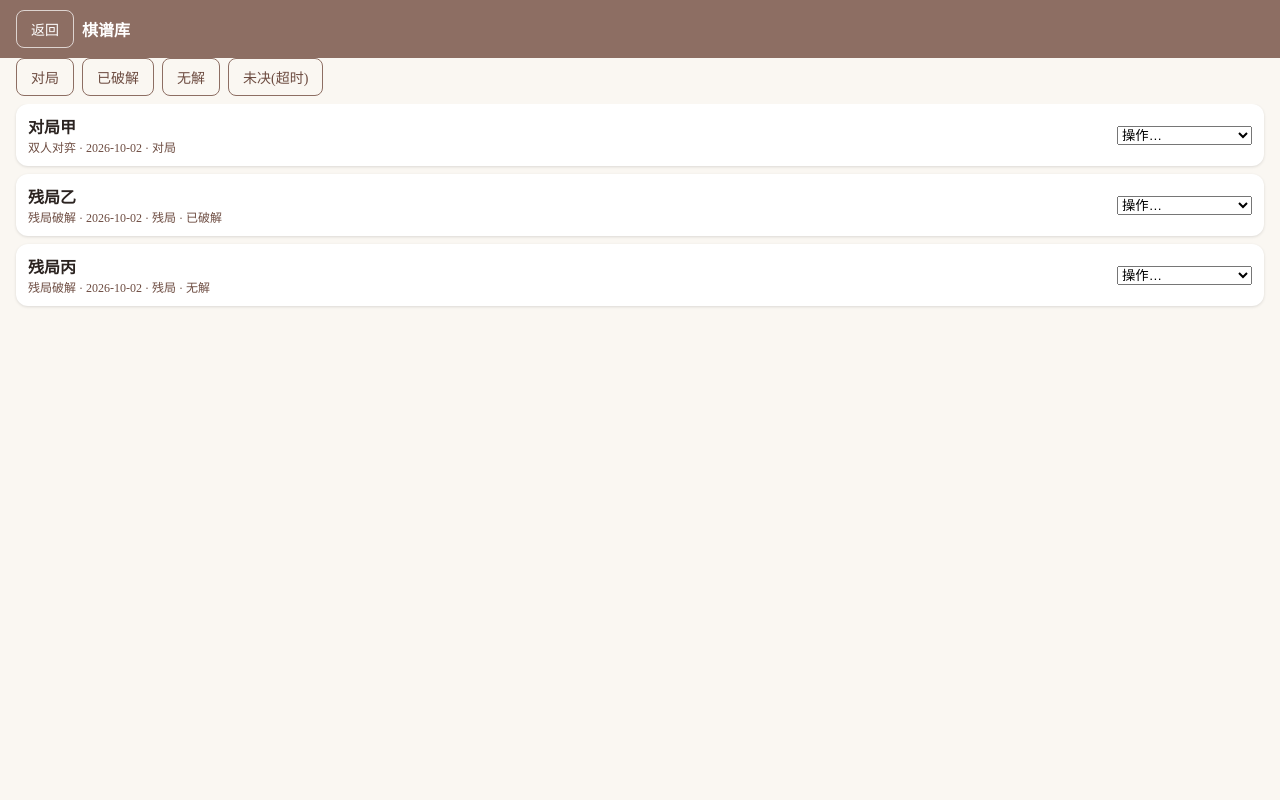
Test: 棋谱库列表（TC-LIB） › TC-LIB-007 删除确认框取消后棋谱保留
Expected: the text "残局丙" is shown, [28, 259, 76, 276]
Select "删除" in the dropdown named "棋谱操作 残局丙": coordinates (1184, 275) [1117, 266, 1252, 284]
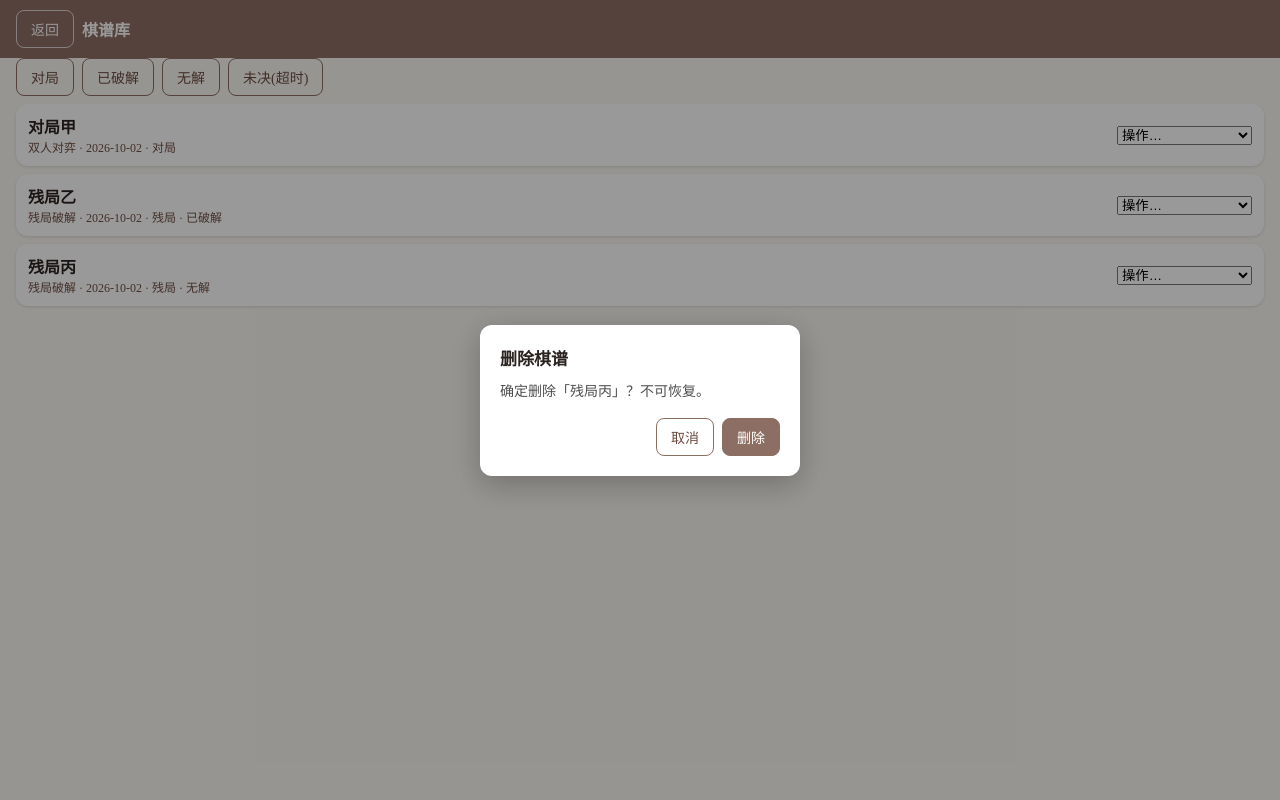
Expected: the element with test id "confirm-dialog" is shown
Click the button "取消": coordinates (685, 436) [656, 418, 714, 456]
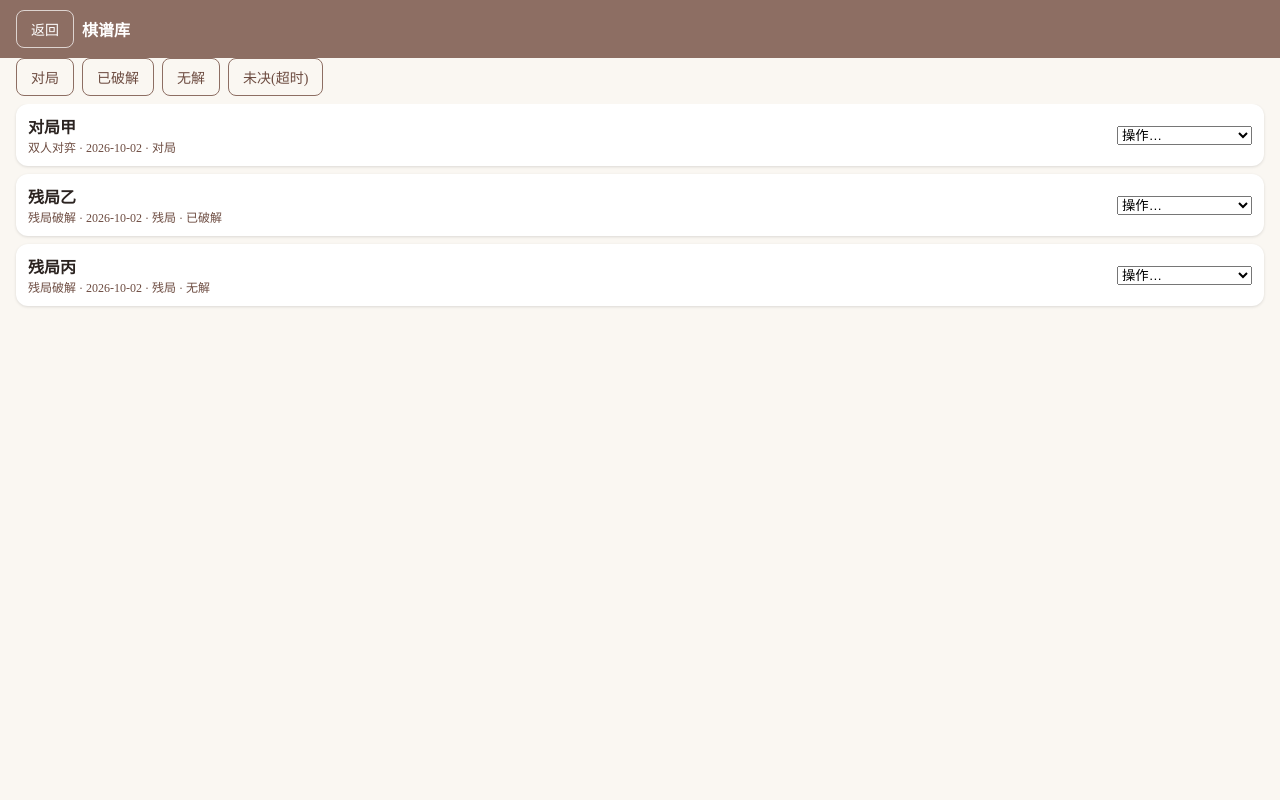
Expected: the text "残局丙" is shown, [28, 259, 76, 276]
Expected: the element with test id "confirm-dialog" is gone
